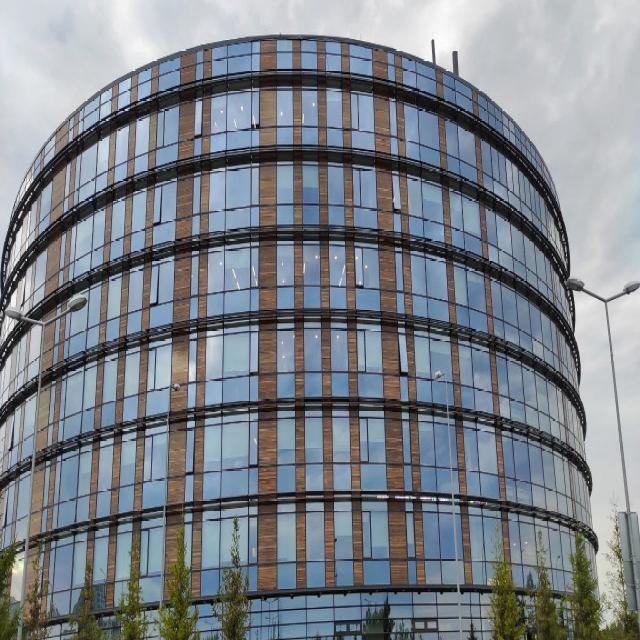Building: (0, 33, 602, 640)
